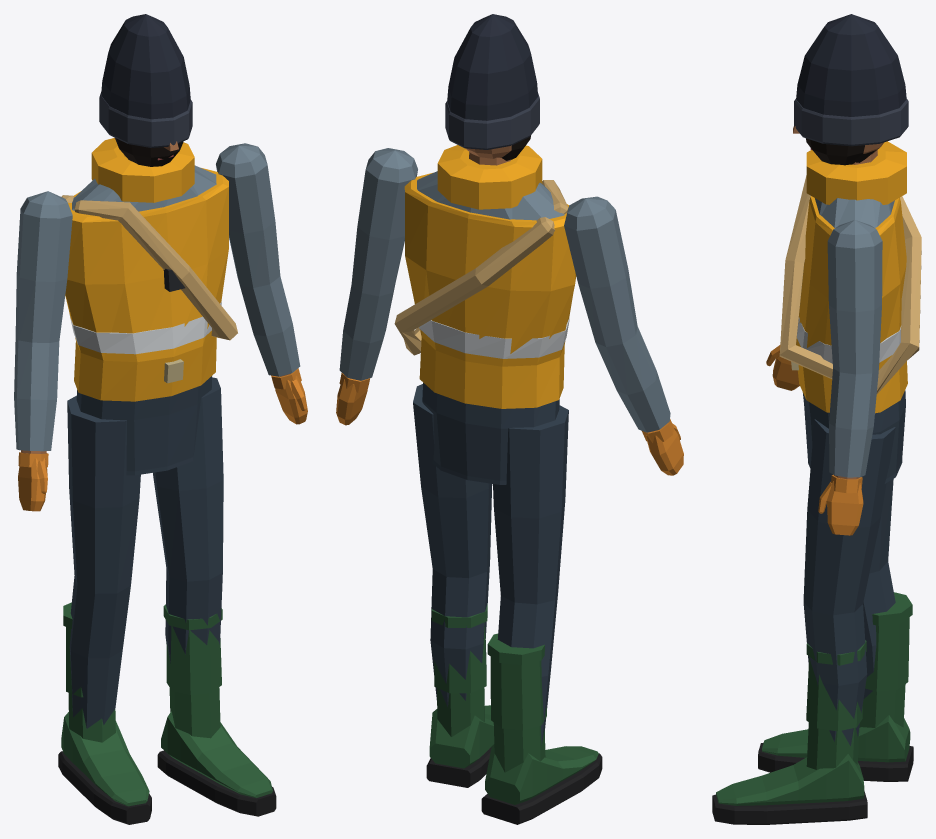
The model's file is HUMAN_09.obj.
3 renders of one model, left to right at view 1: azimuth 30°, elevation 25°; view 2: azimuth 150°, elevation 25°; view 3: azimuth 270°, elevation 25°, orthographic.
Parts seen in each view (by area): view 1: vest, legwear_R, shoe_L, legwear_L, sleeve_R, sleeve_L, headwear, shoe_R, pelvis_bottom, accessory, torso, hand_R (+2 smaller); view 2: vest, legwear_R, legwear_L, shoe_R, sleeve_R, headwear, sleeve_L, shoe_L, pelvis_bottom, accessory, torso, hand_R (+1 smaller); view 3: legwear_L, vest, sleeve_L, shoe_L, headwear, shoe_R, accessory, legwear_R, pelvis_bottom, hand_L, torso, hair (+1 smaller).
Boxes of the visible parts, left/top/right/bottom form: vest: left=65, top=138, right=228, bottom=401; legwear_R: left=67, top=395, right=140, bottom=728; shoe_L: left=157, top=604, right=276, bottom=816; legwear_L: left=153, top=377, right=223, bottom=663; sleeve_R: left=14, top=191, right=72, bottom=451; sleeve_L: left=216, top=143, right=300, bottom=376; headwear: left=99, top=14, right=192, bottom=147; shoe_R: left=58, top=602, right=151, bottom=824; pelvis_bottom: left=76, top=376, right=211, bottom=475; accessory: left=61, top=195, right=237, bottom=340; torso: left=72, top=165, right=216, bottom=211; hand_R: left=18, top=452, right=48, bottom=511; vest: left=404, top=145, right=576, bottom=408; legwear_R: left=493, top=405, right=568, bottom=745; legwear_L: left=413, top=384, right=492, bottom=707; shoe_R: left=481, top=633, right=602, bottom=824; sleeve_R: left=564, top=196, right=670, bottom=432; headwear: left=445, top=14, right=539, bottom=149; sleeve_L: left=339, top=148, right=417, bottom=380; shoe_L: left=426, top=604, right=494, bottom=787; pelvis_bottom: left=422, top=382, right=559, bottom=484; accessory: left=394, top=180, right=568, bottom=355; torso: left=417, top=171, right=564, bottom=220; hand_R: left=642, top=419, right=683, bottom=475; legwear_L: left=803, top=419, right=895, bottom=745; vest: left=796, top=141, right=907, bottom=413; sleeve_L: left=827, top=220, right=882, bottom=477; shoe_L: left=712, top=640, right=867, bottom=824; headwear: left=794, top=14, right=908, bottom=146; shoe_R: left=758, top=592, right=913, bottom=781; accessory: left=779, top=175, right=921, bottom=394; legwear_R: left=863, top=479, right=895, bottom=698; pelvis_bottom: left=803, top=390, right=905, bottom=483; hand_L: left=818, top=474, right=863, bottom=535; torso: left=815, top=198, right=894, bottom=227; hair: left=806, top=138, right=875, bottom=165.
Bounding box in the file's own units: 0.7725 × 1.85 × 0.452.
